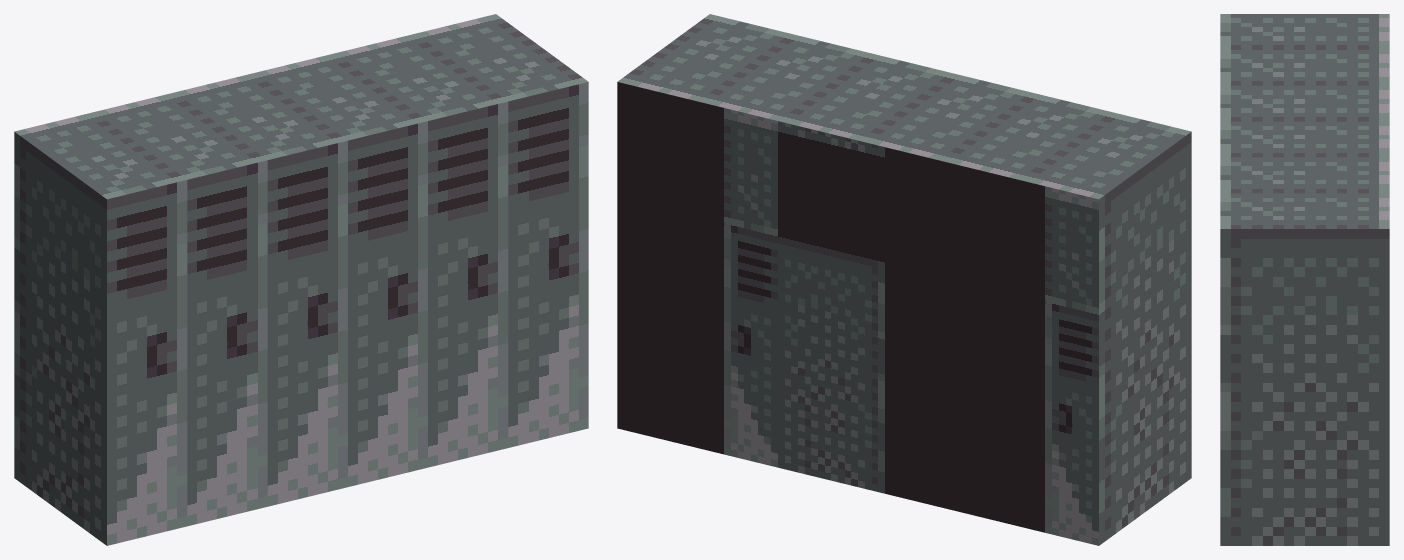
The model's file is Lockers.fbx.
3 views of the same model, side by side, from view 1: azimuth 30°, elevation 25°; view 2: azimuth 150°, elevation 25°; view 3: azimuth 270°, elevation 25° (orthographic). The views are drawn at different scales.
Parts seen in each view (by area): view 1: Cube.378; view 2: Cube.378; view 3: Cube.378.
Boxes of the visible parts, x1,y1,x2,y2 form: Cube.378: (14, 14, 588, 545); Cube.378: (617, 14, 1191, 545); Cube.378: (1220, 14, 1389, 545).
Bounding box in the file's own units: 300 × 206 × 100.
